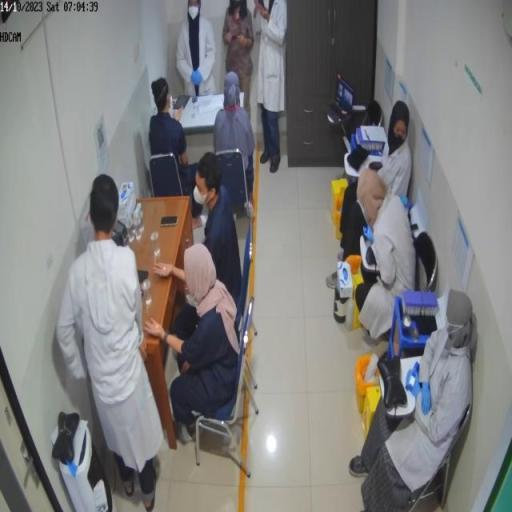person: (57, 174, 166, 510), (351, 289, 475, 496), (145, 242, 241, 447), (328, 167, 418, 341), (340, 101, 414, 260), (191, 154, 244, 305), (215, 78, 257, 214), (255, 1, 288, 174), (150, 78, 191, 192), (177, 1, 217, 99), (224, 1, 256, 117)
